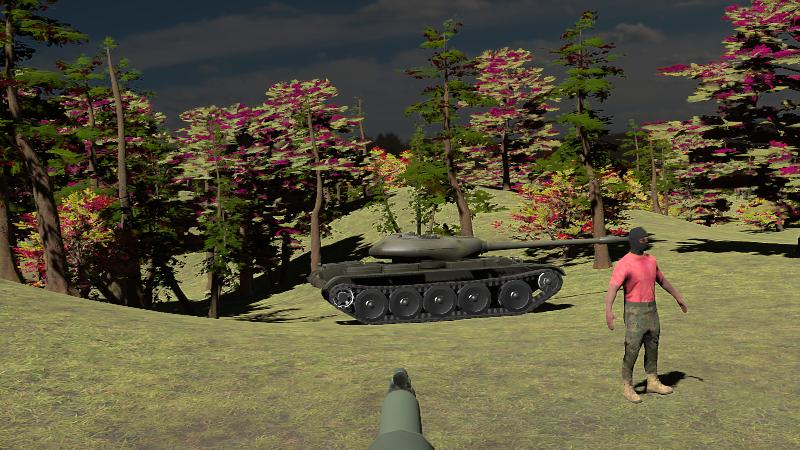Human: (605, 226, 687, 404)
Tank: (310, 232, 638, 324)
